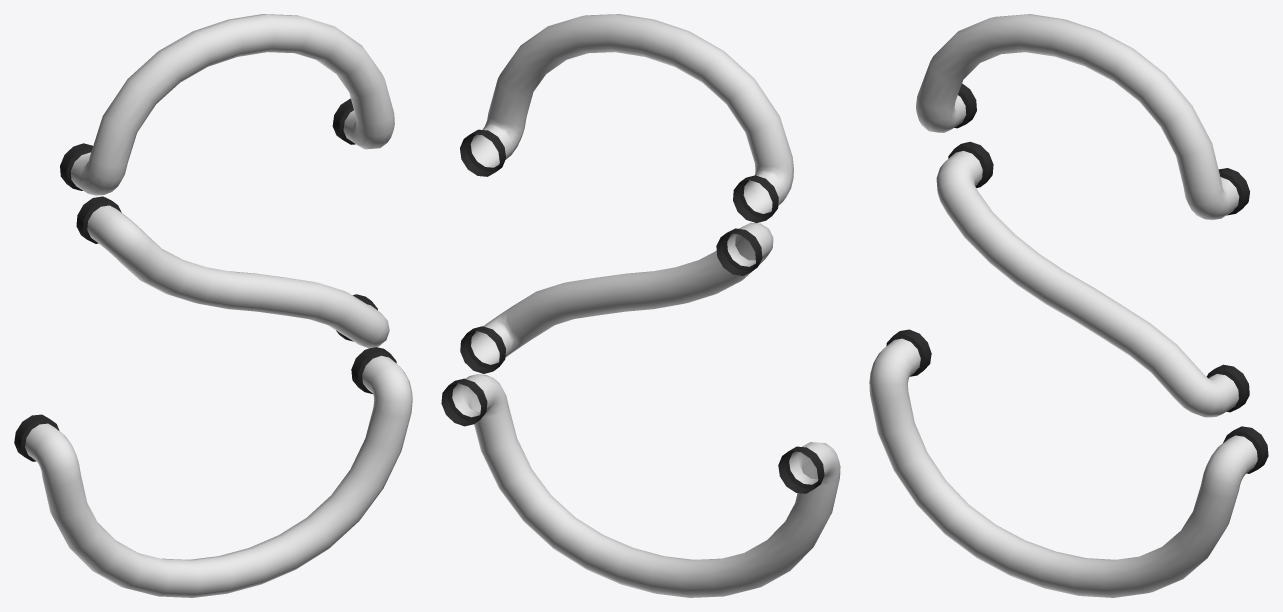
Rendered from LettersNeon01_S.FBX.
3 renders of one model, left to right at view 1: azimuth 30°, elevation 25°; view 2: azimuth 150°, elevation 25°; view 3: azimuth 330°, elevation 25°, orthographic.
Visible parts, largest first — view 1: LettersNeon01_S; view 2: LettersNeon01_S; view 3: LettersNeon01_S.
Part boxes in pixels (bbox=[...]): LettersNeon01_S: bbox=[14, 14, 412, 597]; LettersNeon01_S: bbox=[441, 14, 840, 597]; LettersNeon01_S: bbox=[869, 14, 1268, 597].
Size of what is drawn, in the model's own units: 0.3391 by 0.4894 by 0.054.
